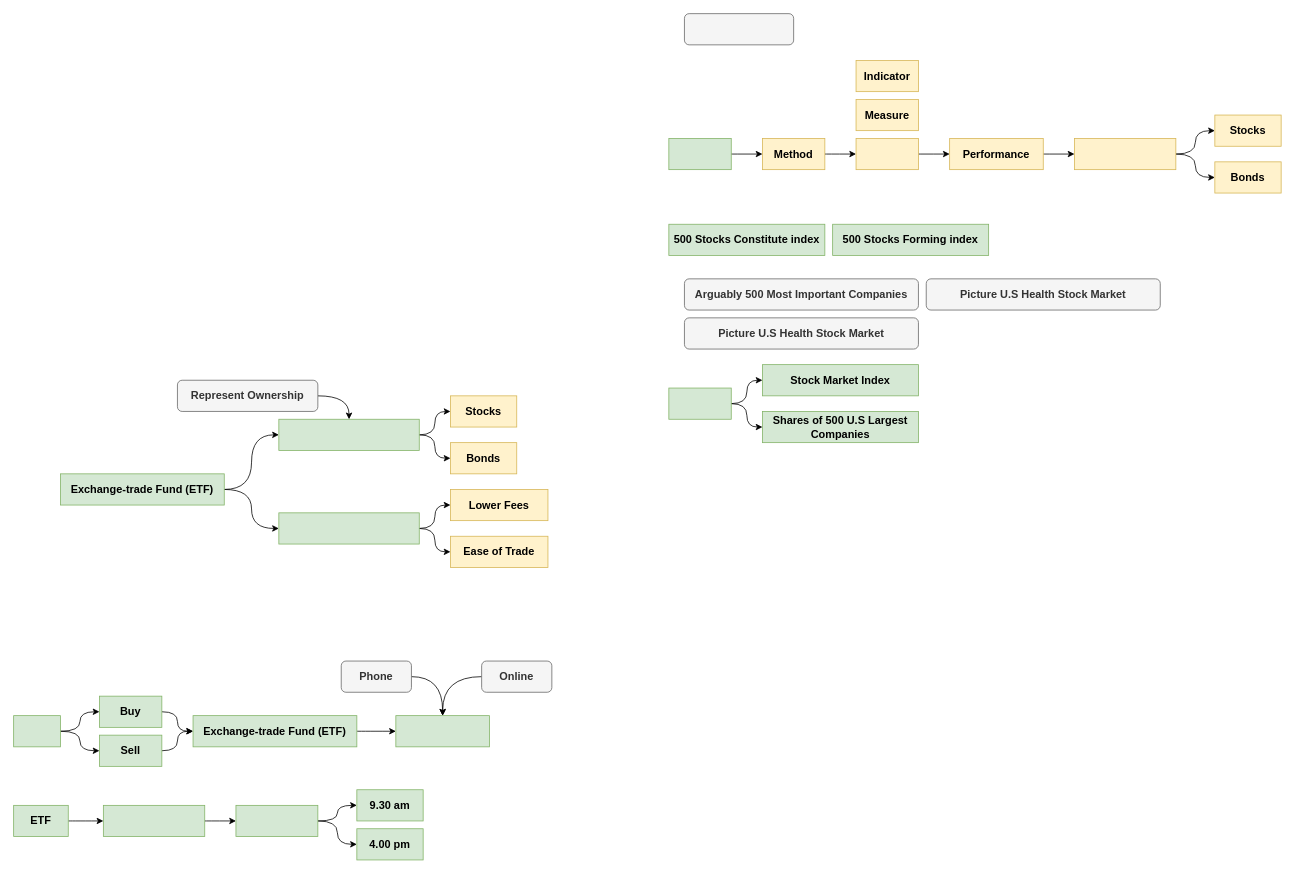
The diagram is 1295 pixels wide and 874 high, and some of its shapes have lost their labels. Here are the shapes that lost their labels. From the top down, the box of each, then its label:
(684, 13, 794, 45): Standarized Way
(668, 138, 731, 170): Index
(855, 138, 918, 170): Tracking
(1074, 138, 1176, 170): Group of Assets
(668, 387, 731, 419): S&P 500
(278, 418, 419, 450): Baskets of investment
(278, 512, 419, 544): Advantages
(13, 715, 60, 747): You
(395, 715, 489, 747): Broker
(103, 805, 205, 837): Trading Session
(235, 805, 318, 837): Day Trading
